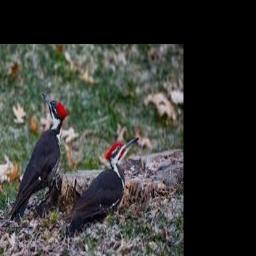Woodpecker: (5, 94, 69, 225), (62, 137, 139, 228)
